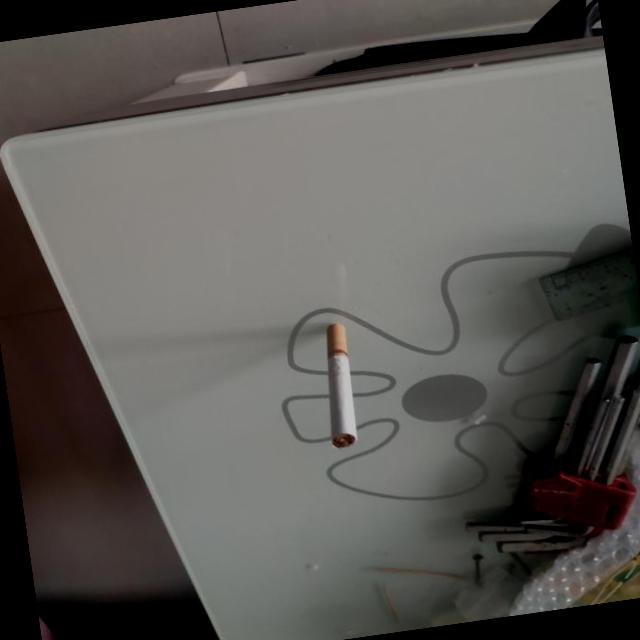cigarette: (313, 322, 364, 452)
